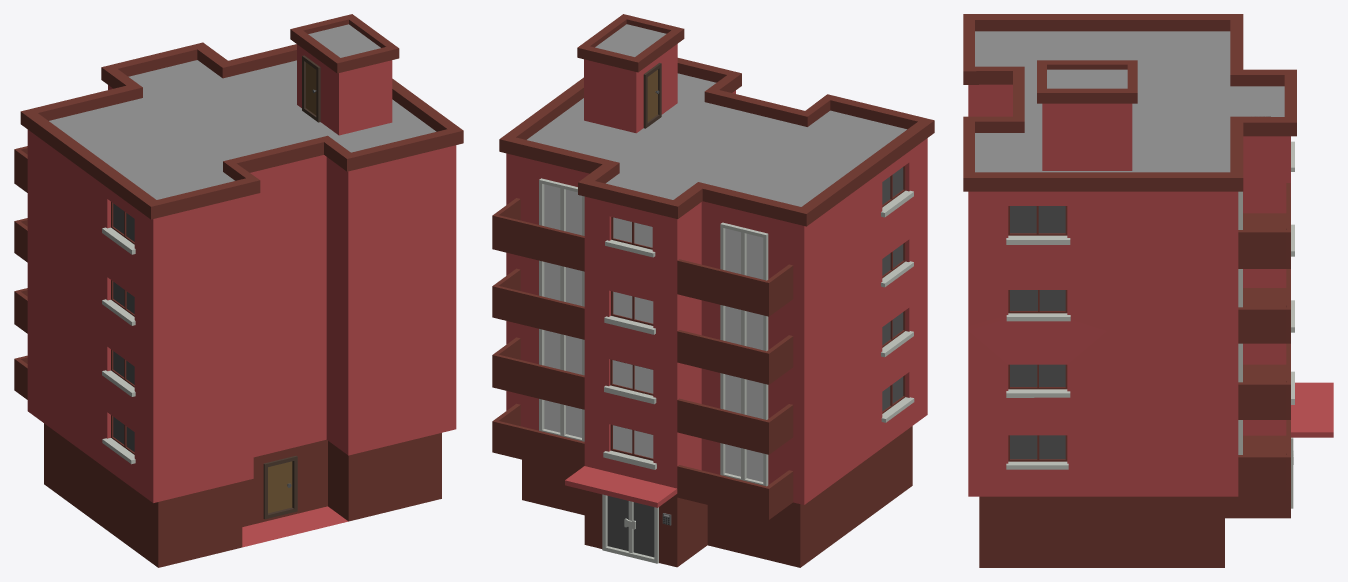
Rendered from Building A Red.fbx.
The picture shows the model from 3 angles, left to right: view 1: azimuth 30°, elevation 25°; view 2: azimuth 150°, elevation 25°; view 3: azimuth 270°, elevation 25°; orthographic projection. The views are drawn at different scales.
Parts seen in each view (by area): view 1: Building A Red.001; view 2: Building A Red.001; view 3: Building A Red.001.
Part boxes in pixels (box(x1,y1,x2,y2)): Building A Red.001: box(14, 14, 463, 567); Building A Red.001: box(492, 14, 934, 567); Building A Red.001: box(963, 14, 1333, 567).
Bounding box in the file's own units: 1534 × 1466 × 2039.
